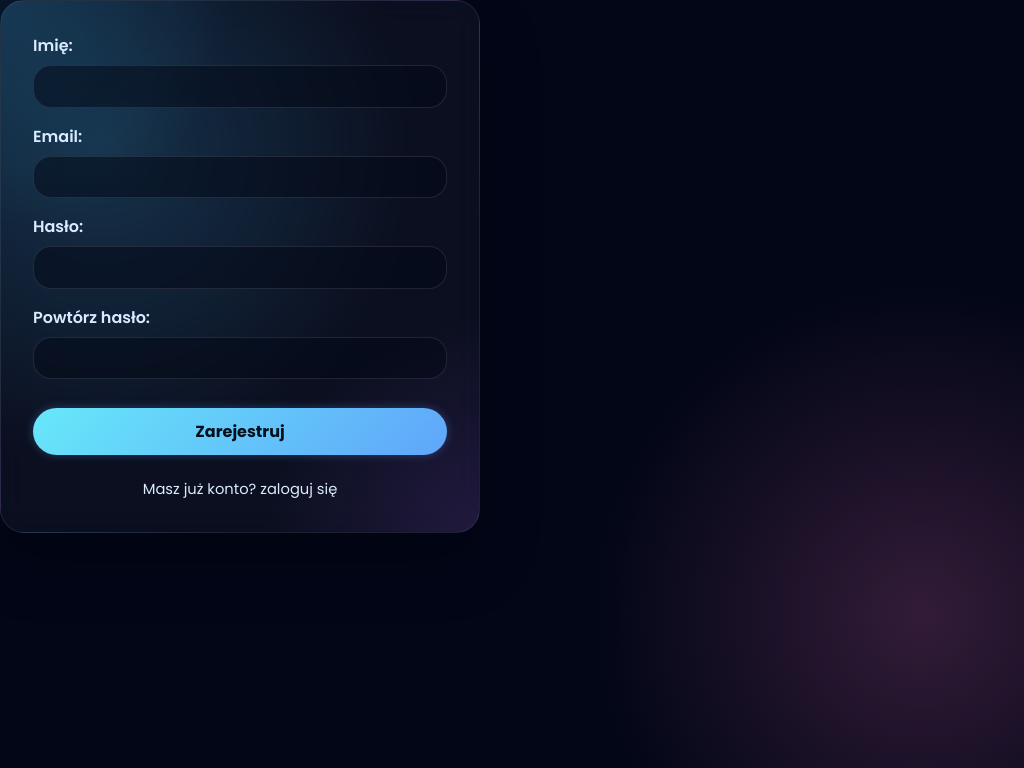
Test: RegistryForm › shows validation error for empty name
This screenshot has width=1024, height=768.
Click the button "Zarejestruj" at (240, 432), box [33,408,447,455]
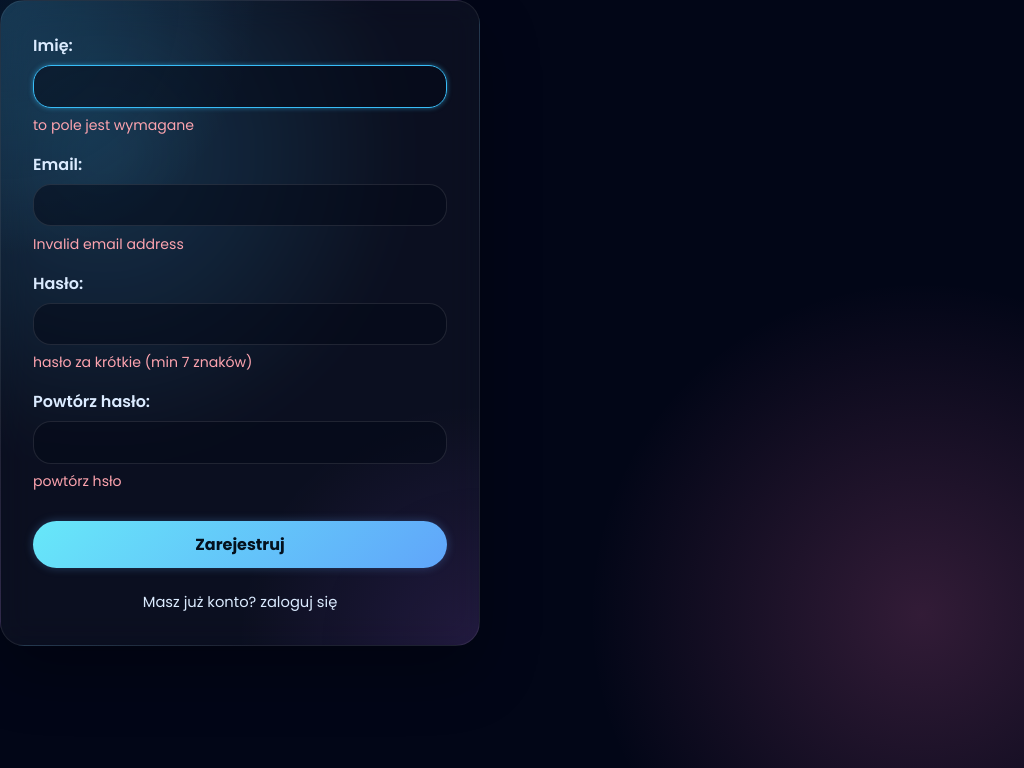
Check: the text "to pole jest wymagane" is shown, box [33,115,194,135]
